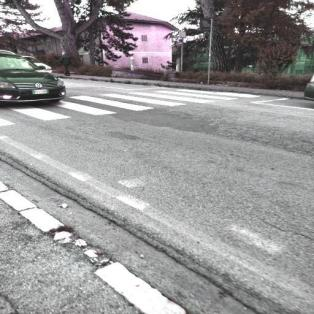Paso de Cebra: (98, 92, 217, 110)
